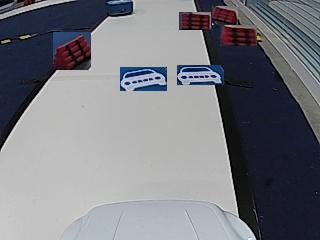prop: (108, 1, 132, 17)
